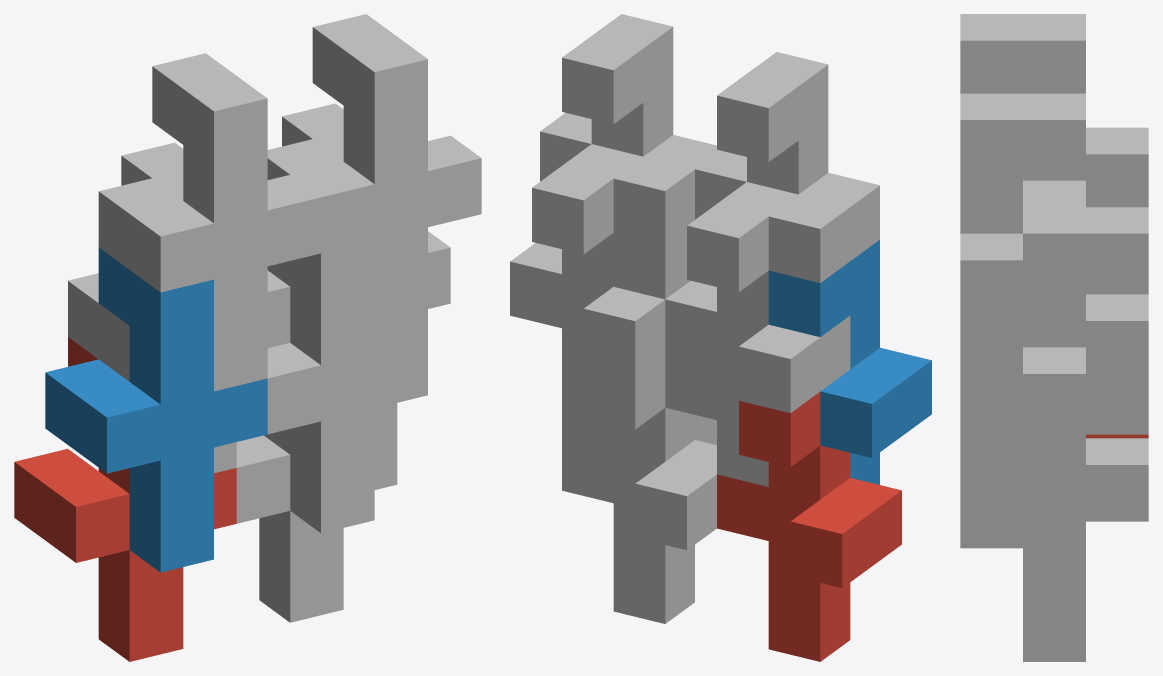
Rendered from tiling.obj.
3 views of the same model, side by side, from view 1: azimuth 30°, elevation 25°; view 2: azimuth 150°, elevation 25°; view 3: azimuth 270°, elevation 25° (orthographic). The views are drawn at different scales.
Parts seen in each view (by area): view 1: copy_1_domain_4, copy_1_domain_2, copy_1_domain_8, copy_1_domain_6, copy_1_domain_1, copy_1_domain_5, copy_1_domain_3, copy_1_domain_7; view 2: copy_1_domain_1, copy_1_domain_5, copy_1_domain_3, copy_1_domain_4, copy_1_domain_7, copy_1_domain_8, copy_1_domain_2, copy_1_domain_6; view 3: copy_1_domain_7, copy_1_domain_8, copy_1_domain_5, copy_1_domain_4, copy_1_domain_6, copy_1_domain_3, copy_1_domain_1.
Part boxes in pixels (x1,y1,x2,y2): copy_1_domain_4: [98, 53, 320, 391]; copy_1_domain_2: [45, 247, 267, 572]; copy_1_domain_8: [267, 14, 481, 351]; copy_1_domain_6: [267, 240, 427, 533]; copy_1_domain_1: [14, 337, 236, 661]; copy_1_domain_5: [236, 429, 397, 622]; copy_1_domain_3: [68, 142, 290, 473]; copy_1_domain_7: [282, 103, 450, 433]; copy_1_domain_1: [717, 392, 901, 661]; copy_1_domain_5: [562, 354, 716, 623]; copy_1_domain_3: [665, 182, 850, 486]; copy_1_domain_4: [695, 52, 879, 282]; copy_1_domain_7: [510, 144, 665, 448]; copy_1_domain_8: [540, 14, 720, 244]; copy_1_domain_2: [768, 240, 931, 484]; copy_1_domain_6: [613, 229, 716, 444]; copy_1_domain_7: [1023, 207, 1148, 517]; copy_1_domain_8: [960, 93, 1085, 404]; copy_1_domain_5: [1023, 377, 1148, 661]; copy_1_domain_4: [960, 14, 1085, 93]; copy_1_domain_6: [960, 404, 1022, 548]; copy_1_domain_3: [1023, 127, 1148, 294]; copy_1_domain_1: [1086, 434, 1148, 438].
Bounding box in the file's own units: 7 × 10 × 3.
